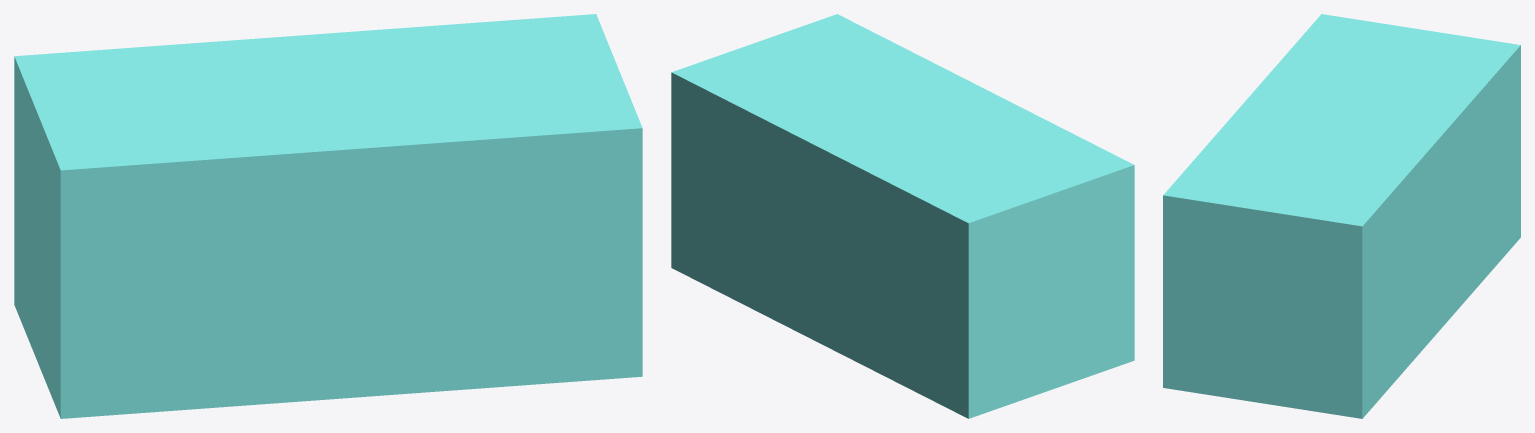
Rendered from blue-rectangle.glb.
3 views of the same model, side by side, from view 1: azimuth 30°, elevation 25°; view 2: azimuth 150°, elevation 25°; view 3: azimuth 270°, elevation 25° (orthographic). The views are drawn at different scales.
Bounding box in the file's own units: 0.4536 × 0.1917 × 0.3227.
